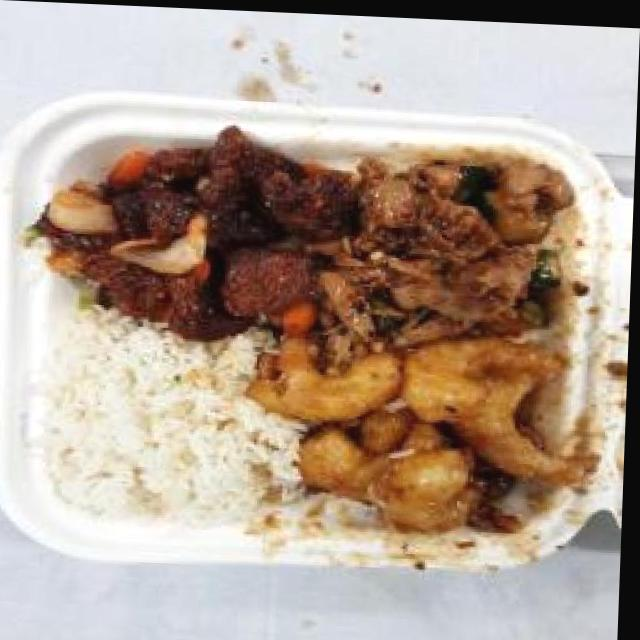Beijing Beef: (41, 120, 357, 336)
Honey Walnut Shrimp: (273, 310, 592, 539)
Kung Pao Chicken: (332, 137, 576, 350)
White Steamed Rice: (37, 320, 281, 528)
